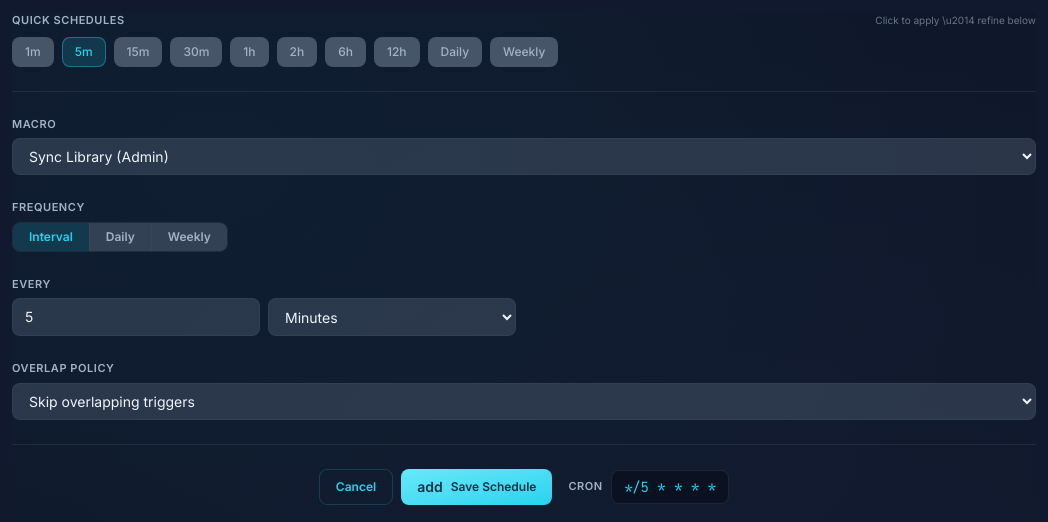
Test case: NewScheduleForm — quick-pick presets › clicking 'Daily' chip switches frequency to daily and shows the time field
This screenshot has width=1048, height=522.
Click the 1st button "Daily" at (455, 52), box top-left (428, 36), bottom-right (482, 66)
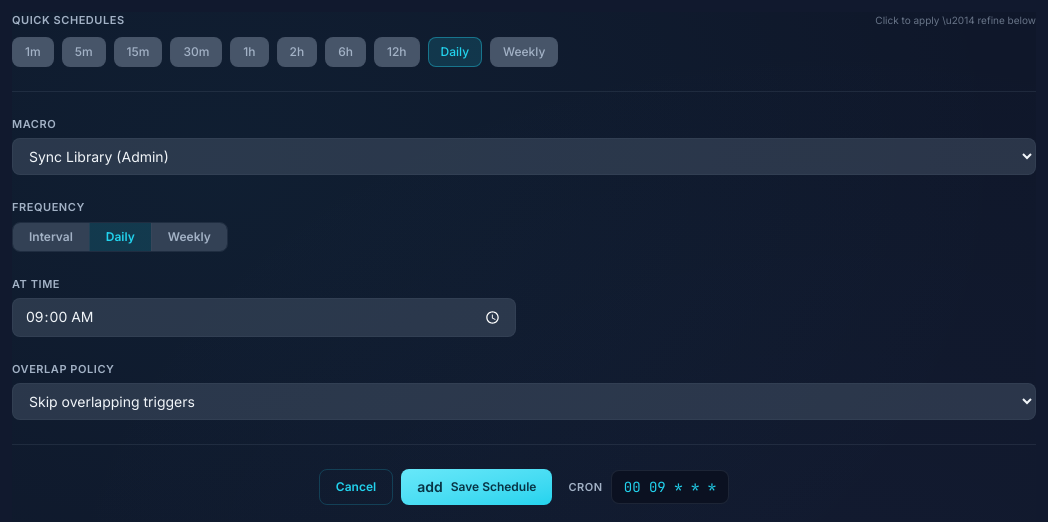
Now the text "At time" is shown, box top-left (12, 276), bottom-right (60, 290)
Now the label labelled "Every" is gone
